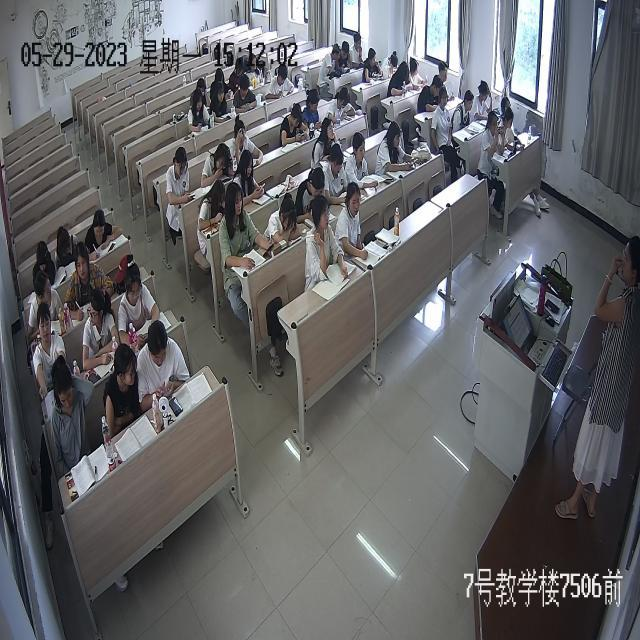distracted: (46, 362, 92, 473), (102, 344, 140, 433), (80, 291, 120, 366), (28, 274, 66, 331), (54, 226, 81, 268), (320, 44, 343, 84), (338, 41, 351, 72)
focused: (64, 245, 120, 321), (306, 197, 348, 282), (120, 265, 161, 344), (31, 306, 69, 390), (336, 183, 368, 263), (320, 143, 354, 204), (228, 117, 266, 169), (346, 134, 380, 190), (294, 168, 326, 221), (312, 116, 342, 171), (196, 180, 228, 229), (87, 212, 126, 252), (432, 89, 454, 147), (32, 242, 56, 292), (231, 77, 259, 113), (416, 76, 444, 112), (266, 66, 296, 99), (388, 62, 416, 96), (209, 85, 234, 122), (362, 47, 386, 83), (452, 92, 476, 126), (498, 105, 518, 144), (348, 32, 369, 69), (474, 82, 494, 118), (228, 58, 252, 87), (379, 48, 401, 78), (247, 55, 267, 86), (436, 63, 450, 96)
sleep: (266, 193, 302, 245)
using_phone: (218, 184, 274, 271), (137, 321, 189, 409), (374, 122, 420, 177), (234, 152, 266, 208), (166, 148, 195, 208), (200, 144, 235, 186), (280, 105, 312, 147), (481, 112, 507, 160), (187, 92, 216, 134), (328, 88, 358, 125), (302, 88, 327, 131), (211, 70, 236, 105), (407, 57, 429, 91)
